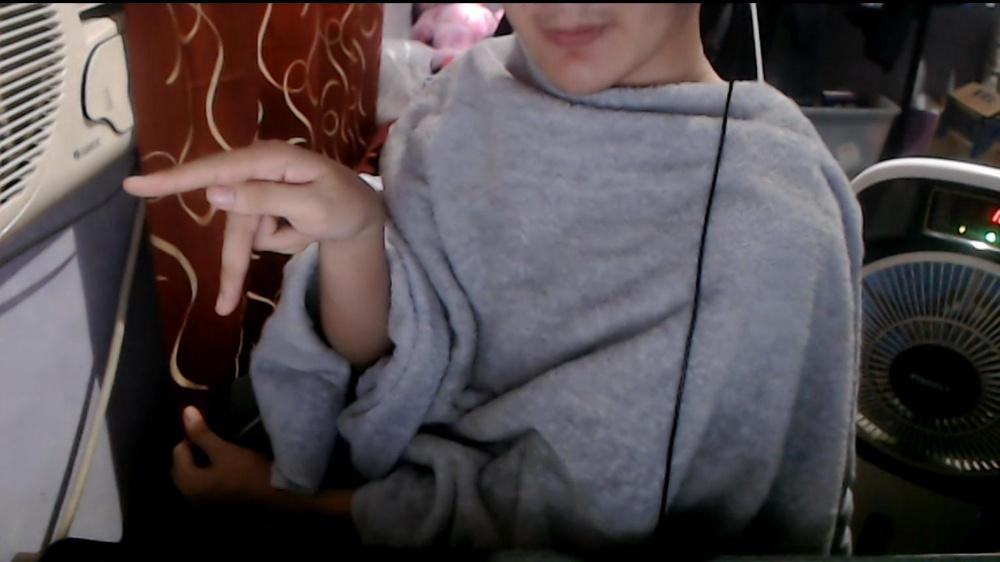p: (121, 138, 360, 316)
